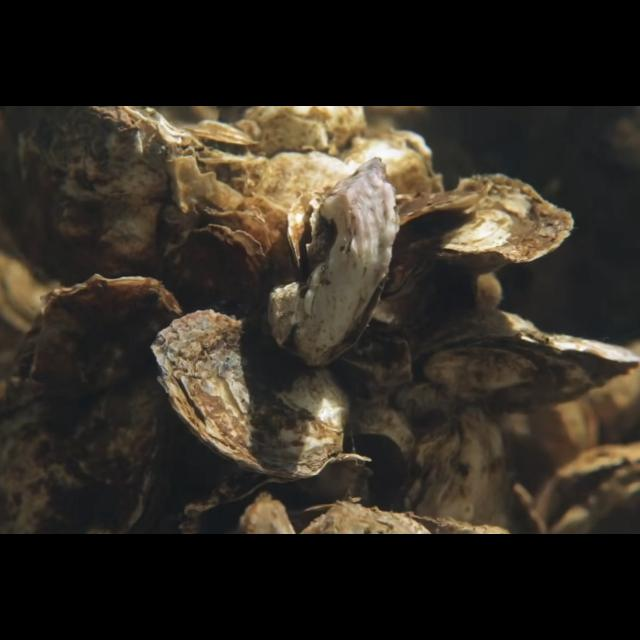Oyster-Closed: (0, 273, 184, 534), (148, 310, 354, 480), (266, 157, 400, 369), (410, 309, 640, 416), (382, 174, 574, 300), (396, 403, 514, 535)
Oyster-Indeterminate: (0, 106, 220, 288), (160, 222, 270, 326)
Oyster-Open: (195, 453, 372, 535), (536, 448, 640, 534)
